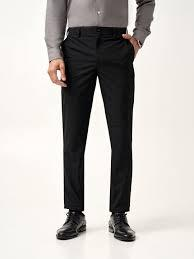trouser: (53, 25, 141, 215)
